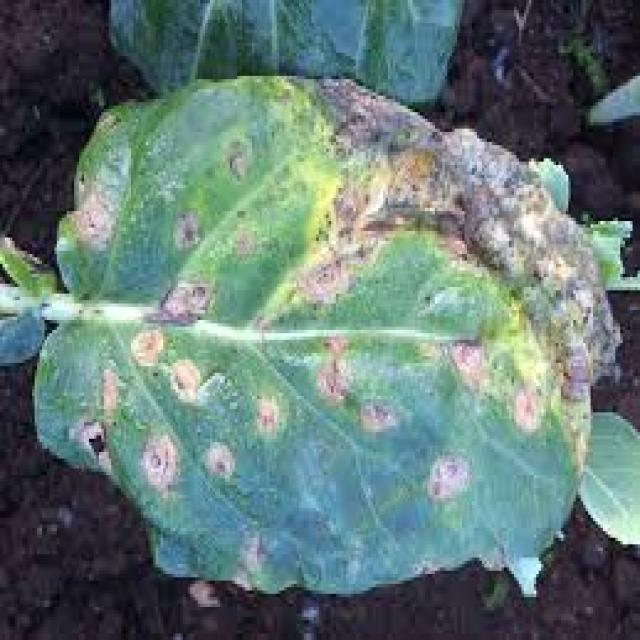leaf_spot: (52, 97, 607, 586)
